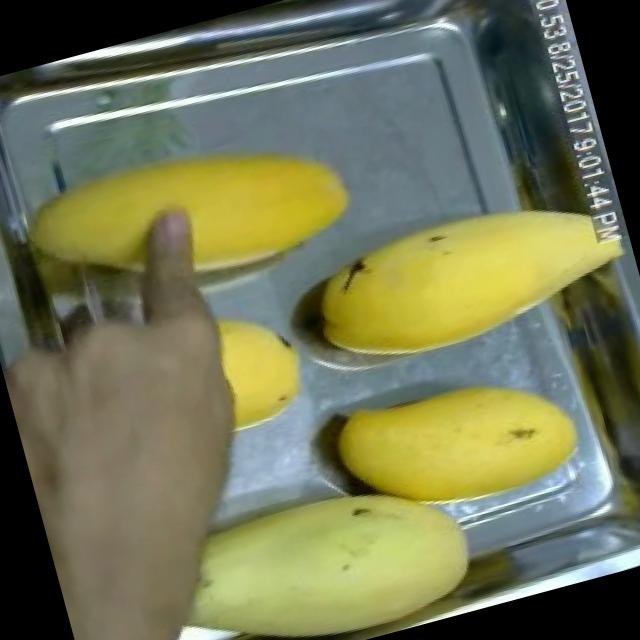fruit: (0, 268, 321, 640), (7, 98, 370, 337), (284, 170, 624, 396), (140, 430, 496, 640), (308, 332, 606, 552), (194, 283, 328, 452)
